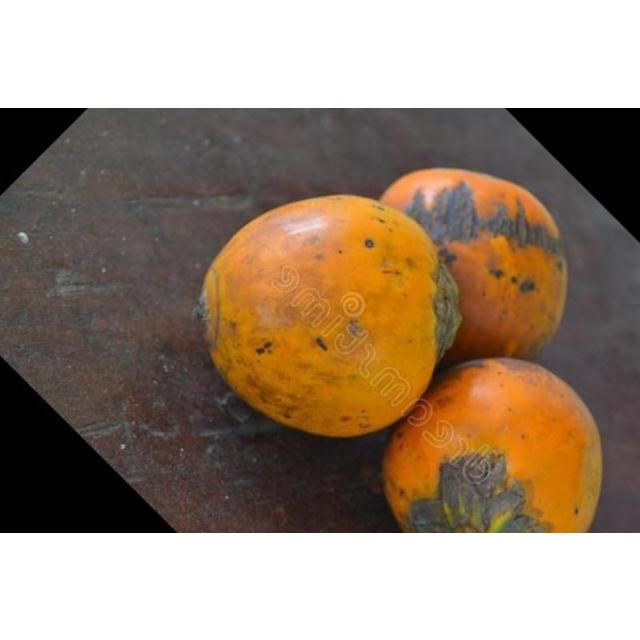good: (203, 197, 451, 433), (384, 358, 600, 530), (379, 168, 566, 366)
